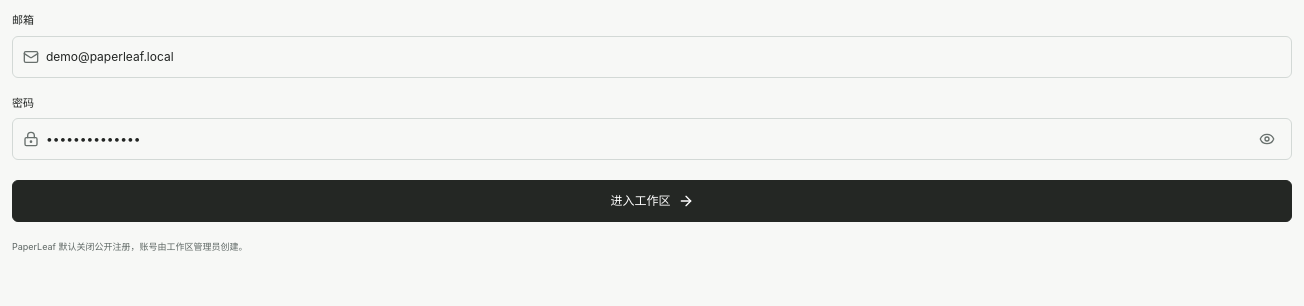
it: LoginForm › 阻止提交不合法邮箱和短密码
Replace the text in the field labelled "邮箱" with "bad" at (664, 56), box [46, 48, 1281, 66]
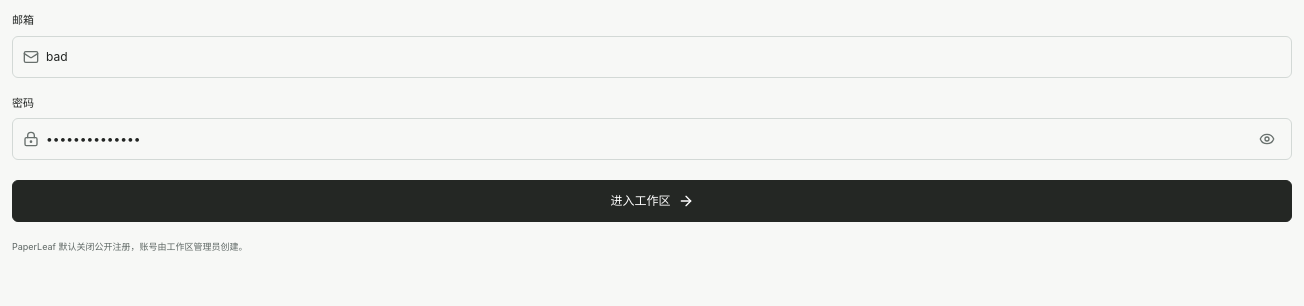
Type "123" into the password field labelled "密码" at (650, 139), box [46, 130, 1253, 148]
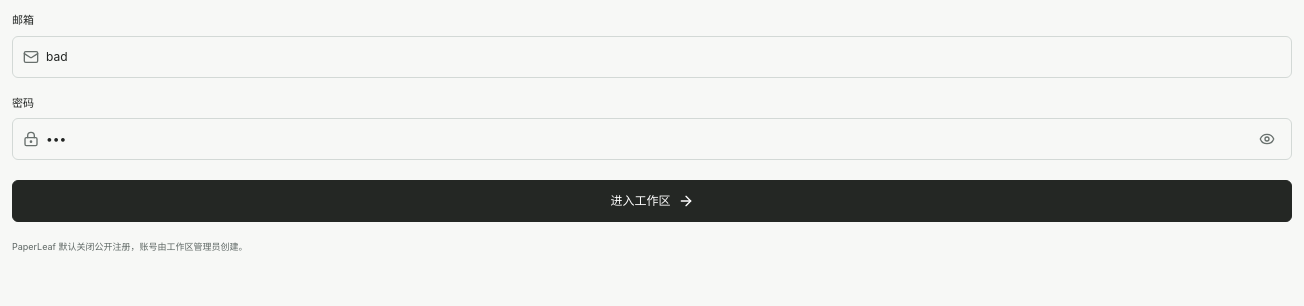
Click the button "进入工作区" at (652, 201), box [12, 180, 1292, 222]
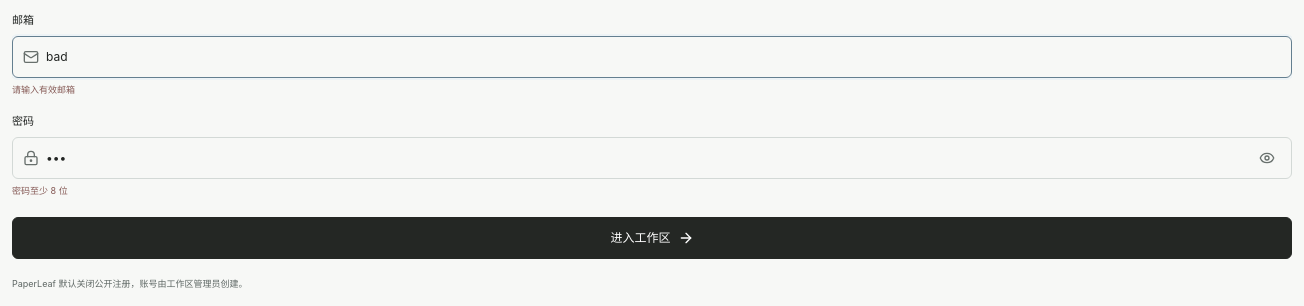
Now the text "请输入有效邮箱" is shown, box [12, 84, 75, 94]
Now the text "密码至少 8 位" is shown, box [12, 184, 68, 196]
